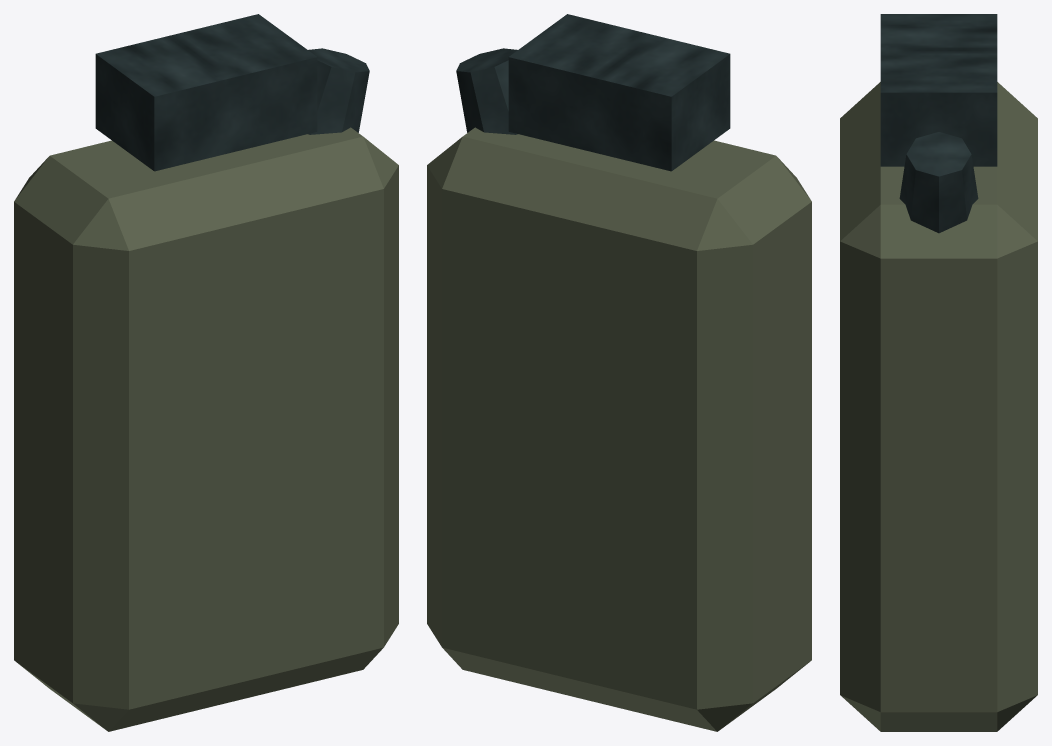
The model's file is Jerrycan.glb.
The picture shows the model from 3 angles, left to right: view 1: azimuth 30°, elevation 25°; view 2: azimuth 150°, elevation 25°; view 3: azimuth 270°, elevation 25°; orthographic projection.
Parts seen in each view (by area): view 1: Jerrycan; view 2: Jerrycan; view 3: Jerrycan.
Boxes of the visible parts, x1,y1,x2,y2 form: Jerrycan: (14,14,398,731); Jerrycan: (427,14,811,731); Jerrycan: (840,14,1037,731).
Bounding box in the file's own units: 0.32 × 0.585 × 0.17.
Materials: 2 (1 with a texture image).
